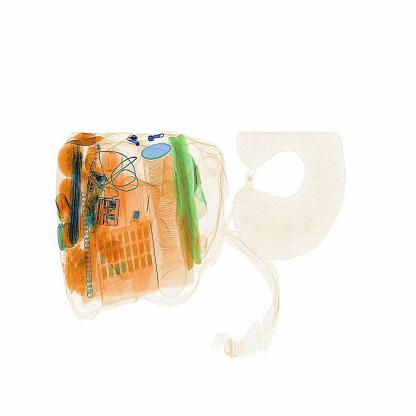wrench: (121, 200, 153, 229)
